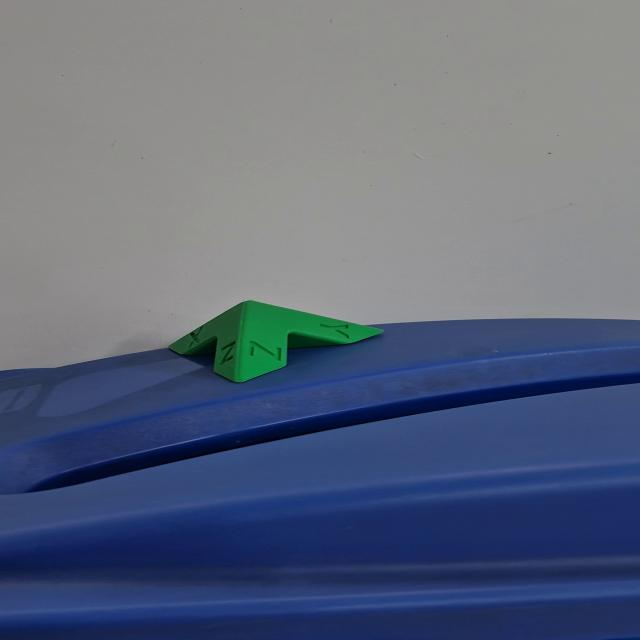objects: (165, 299, 386, 384)
